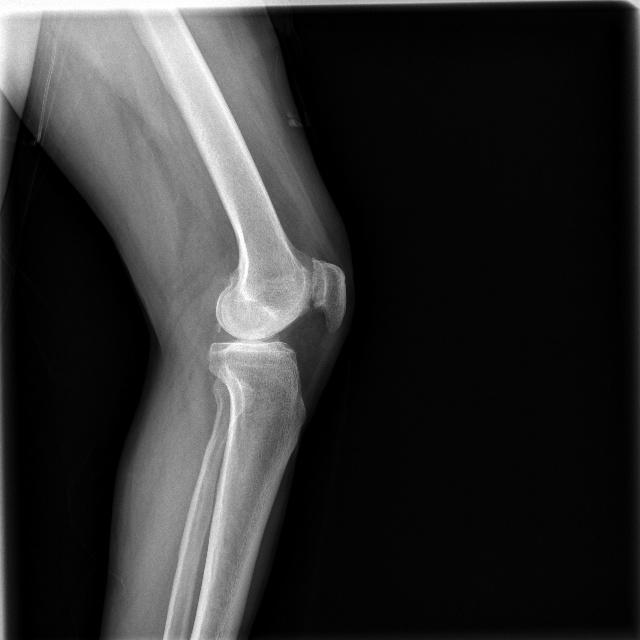Knee: (199, 254, 347, 412)
